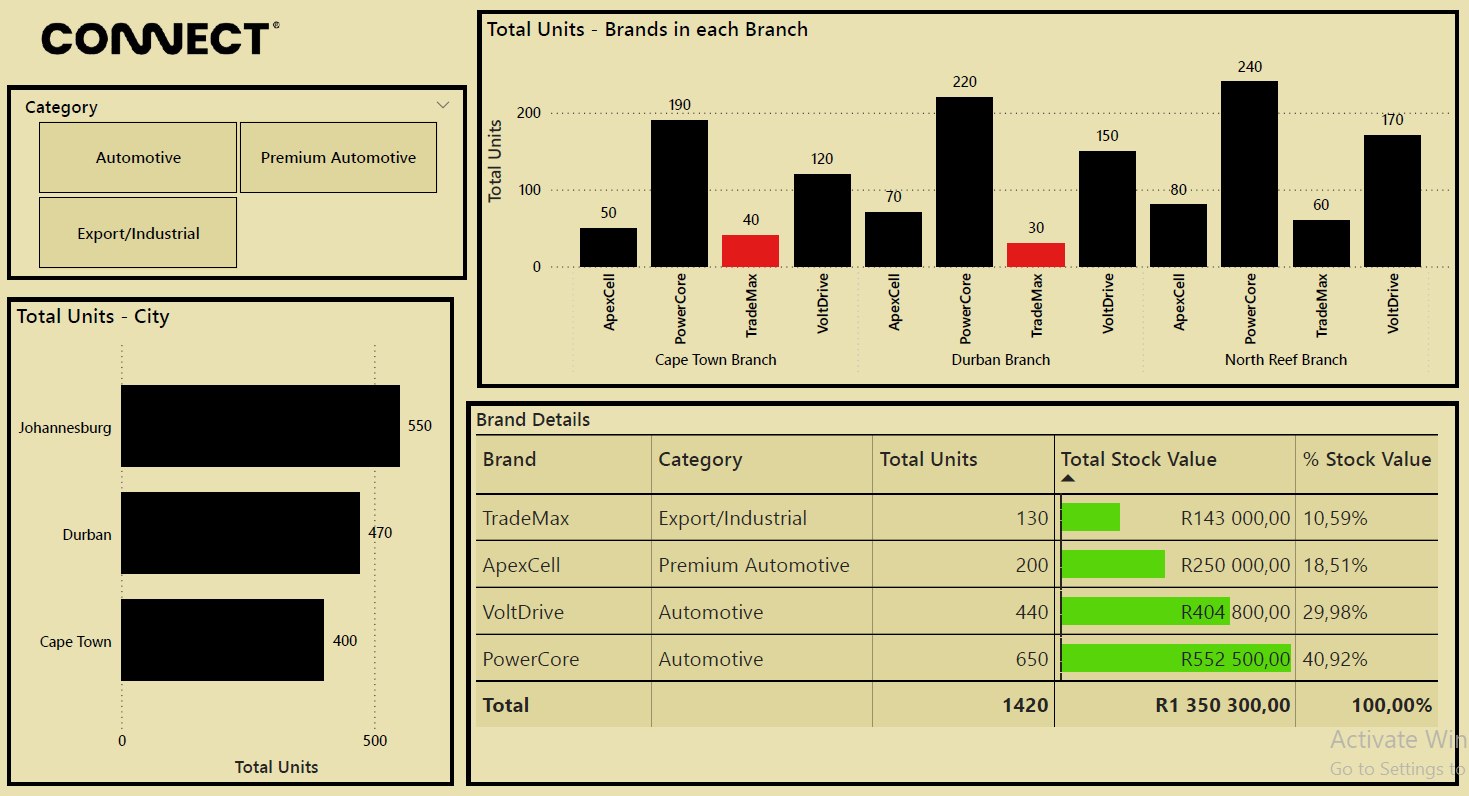

The dashboard page shown, as its layout file describes it:
{"tool":"powerbi","page":{"name":"Inventory Details","canvas":[1350,735],"ordinal":1},"visuals":[{"type":"tableEx","title":"Brand Details","fields":{"Values":["products.brand","products.category","KPI Measures.Total Units","KPI Measures.Total Stock Value","Created Measures.% of Total Stock Value"]},"box":[429.8,370.5,907.4,350.2],"z":0},{"type":"columnChart","title":"Total Units - Brands in each Branch","fields":{"Category":["branches.branch_name","products.brand"],"Y":["KPI Measures.Total Units"]},"box":[440,11.6,897.3,345.9],"z":1000},{"type":"image","box":[0,0,281.3,81],"z":2000},{"type":"clusteredBarChart","title":"Total Units - City","fields":{"Category":["branches.city"],"Y":["KPI Measures.Total Units"]},"box":[10.1,275,408.1,445.8],"z":3000},{"type":"slicer","fields":{"Values":["products.category"]},"box":[9.9,80.7,420.3,176.9],"z":4000}]}

Visuals, with their boxes in screenshot pixels (x1, y1, x2, y2), scaled from the page's 1350x735 canvas onto the 1469x796 screenshot:
"Brand Details" tableEx: 468, 401, 1455, 781
"Total Units - Brands in each Branch" columnChart: 479, 13, 1455, 387
image: 0, 0, 306, 88
"Total Units - City" clusteredBarChart: 11, 298, 455, 781
slicer - products.category: 11, 87, 468, 279
